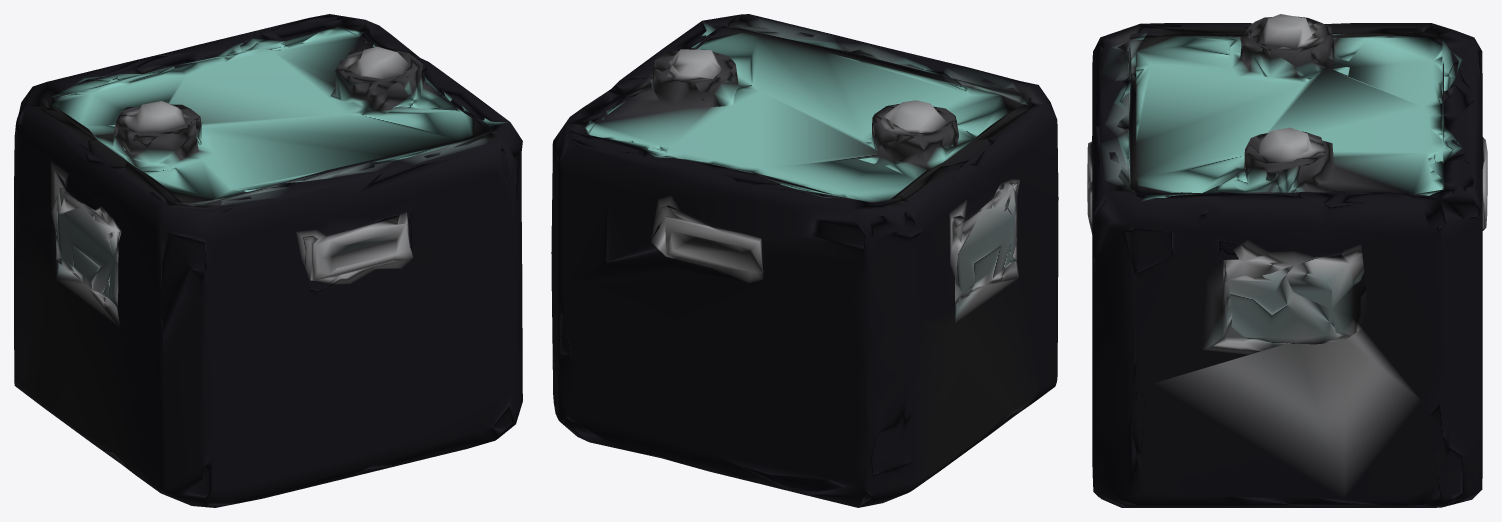
The model's file is gen3d-battery-pack-lod0.glb.
3 renders of one model, left to right at view 1: azimuth 30°, elevation 25°; view 2: azimuth 150°, elevation 25°; view 3: azimuth 270°, elevation 25°, orthographic. The views are drawn at different scales.
Parts seen in each view (by area): view 1: part_0; view 2: part_0; view 3: part_0.
Boxes of the visible parts, bbox=[...] form: part_0: bbox=[14, 14, 522, 507]; part_0: bbox=[551, 14, 1058, 507]; part_0: bbox=[1087, 14, 1487, 507].
Size of the model in its own units: 1.17 by 1 by 1.04.
